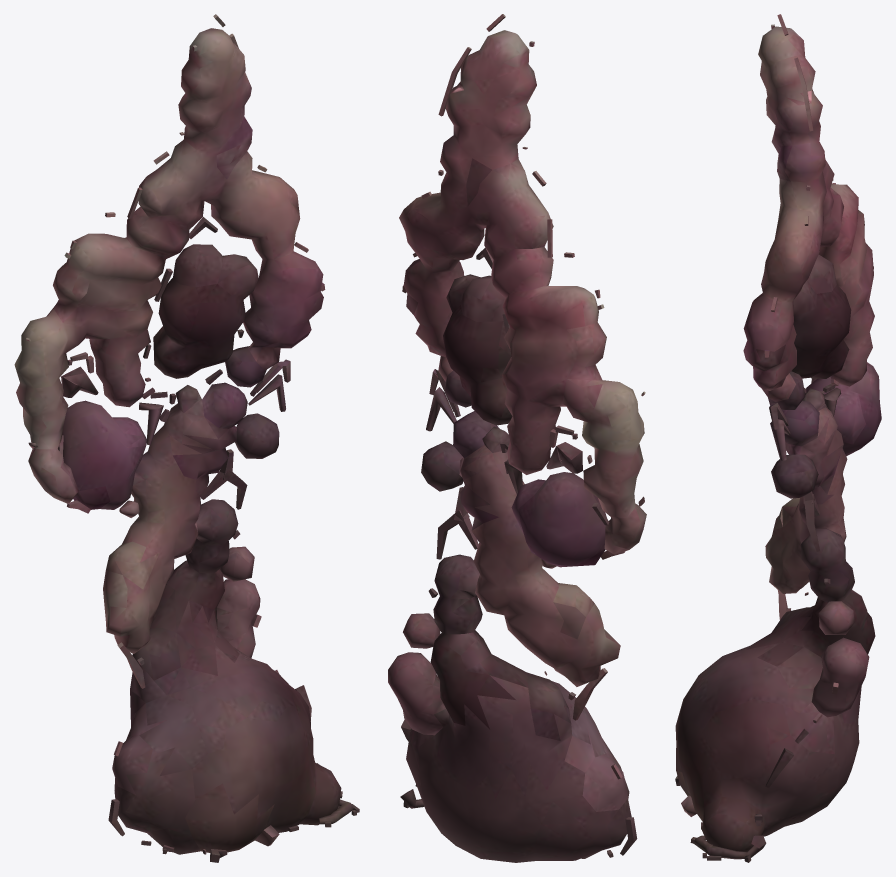
The model's file is jellystem.glb.
The picture shows the model from 3 angles, left to right: view 1: azimuth 30°, elevation 25°; view 2: azimuth 150°, elevation 25°; view 3: azimuth 270°, elevation 25°; orthographic projection. The views are drawn at different scales.
Visible parts, largest first — view 1: body; view 2: body; view 3: body.
Boxes of the visible parts, left/top/right/bottom form: body: left=14, top=14, right=359, bottom=862; body: left=388, top=14, right=646, bottom=862; body: left=675, top=14, right=881, bottom=862.
Bounding box in the file's own units: 2.41 × 6.72 × 1.56.
1 material, 1 textured.
